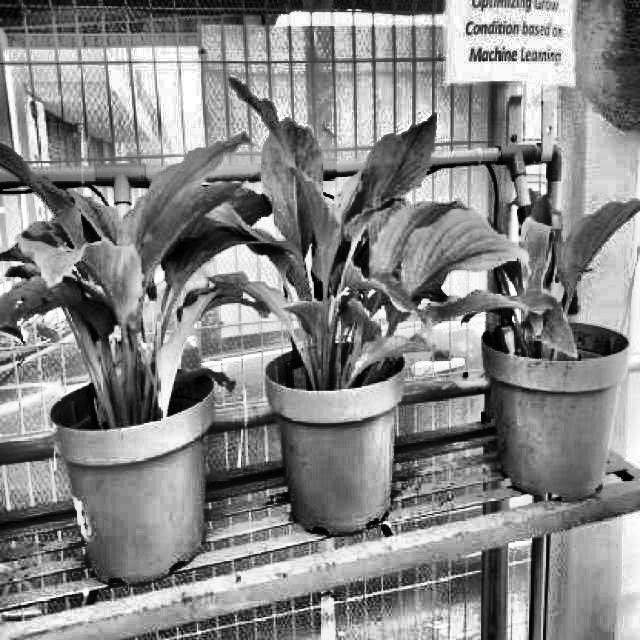plants: (224, 70, 510, 402), (0, 126, 268, 429)
